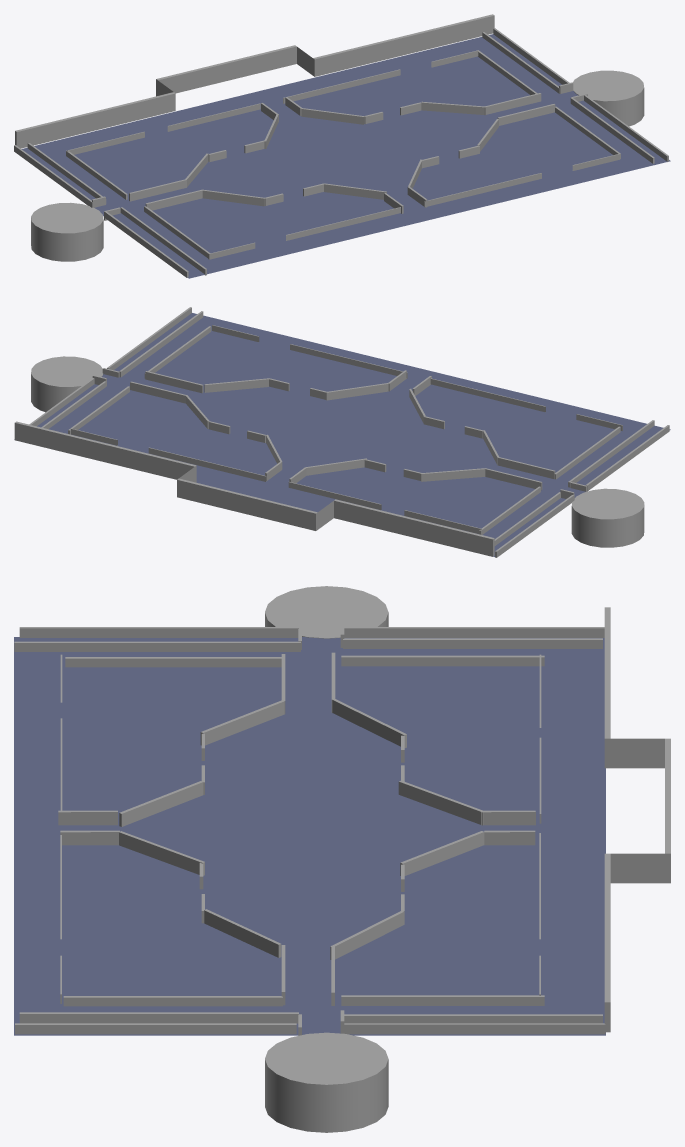
Rendered from mapBlock_01.fbx.
3 views of the same model, one above another, from view 1: azimuth 30°, elevation 25°; view 2: azimuth 150°, elevation 25°; view 3: azimuth 270°, elevation 25° (orthographic). The views are drawn at different scales.
Visible parts, largest first — view 1: pPlane1, pCube1, pCylinder1, pCylinder2, pCube31, pCube44, pCube43, pCube30, pCube12, pCube25, pCube4, pCube3 (+16 smaller); view 2: pPlane1, pCube1, pCylinder1, pCylinder2, pCube31, pCube30, pCube43, pCube44, pCube12, pCube25, pCube3, pCube4 (+16 smaller); view 3: pPlane1, pCylinder2, pCube1, pCylinder1, pCube4, pCube25, pCube8, pCube5, pCube12, pCube3, pCube6, pCube24 (+16 smaller).
Part boxes in pixels (x1=…): pPlane1: x1=22, y1=34, x2=670, y2=278; pCube1: x1=15, y1=14, x2=494, y2=148; pCylinder1: x1=31, y1=202, x2=103, y2=261; pCylinder2: x1=572, y1=70, x2=644, y2=126; pCube31: x1=67, y1=103, x2=260, y2=154; pCube44: x1=424, y1=153, x2=619, y2=207; pCube43: x1=208, y1=207, x2=400, y2=259; pCube30: x1=283, y1=50, x2=478, y2=103; pCube12: x1=104, y1=211, x2=188, y2=277; pCube25: x1=570, y1=97, x2=654, y2=163; pCube4: x1=584, y1=95, x2=668, y2=161; pCube3: x1=14, y1=145, x2=92, y2=207; pPlane1: x1=14, y1=313, x2=670, y2=556; pCube1: x1=14, y1=421, x2=494, y2=556; pCylinder1: x1=571, y1=488, x2=644, y2=547; pCylinder2: x1=31, y1=356, x2=103, y2=412; pCube31: x1=288, y1=482, x2=481, y2=533; pCube30: x1=70, y1=428, x2=266, y2=481; pCube43: x1=430, y1=378, x2=622, y2=430; pCube44: x1=212, y1=325, x2=407, y2=378; pCube12: x1=585, y1=425, x2=669, y2=491; pCube25: x1=119, y1=311, x2=203, y2=377; pCube3: x1=495, y1=494, x2=574, y2=557; pCube4: x1=107, y1=307, x2=191, y2=370; pPlane1: x1=14, y1=637, x2=605, y2=1035; pCylinder2: x1=265, y1=1032, x2=388, y2=1132; pCube1: x1=604, y1=607, x2=670, y2=1032; pCylinder1: x1=265, y1=586, x2=388, y2=638; pCube4: x1=15, y1=1023, x2=296, y2=1034; pCube25: x1=19, y1=1012, x2=298, y2=1023; pCube8: x1=14, y1=641, x2=300, y2=651; pCube5: x1=344, y1=1023, x2=605, y2=1034; pCube12: x1=19, y1=627, x2=298, y2=637; pCube3: x1=344, y1=627, x2=604, y2=637; pCube6: x1=343, y1=638, x2=602, y2=648; pCube24: x1=344, y1=1014, x2=602, y2=1023.
Size of the model in its own units: 43.73 by 3.23 by 24.31.
